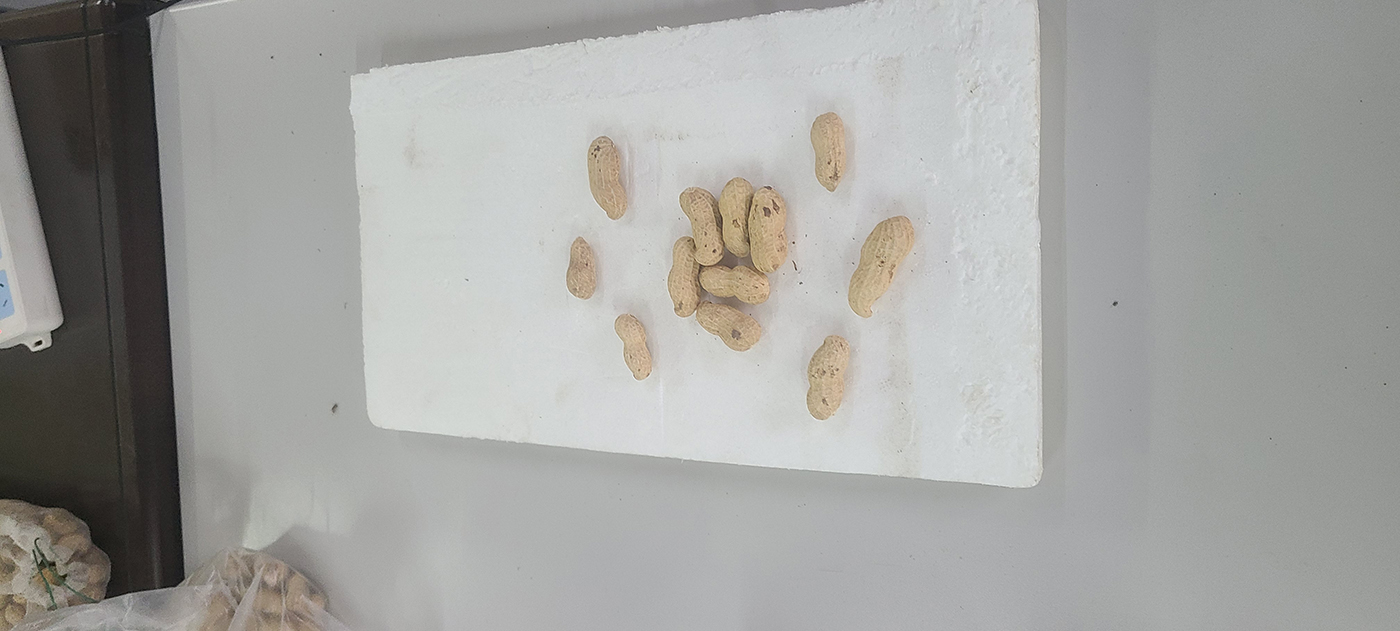h: (848, 216, 914, 318), (679, 186, 725, 265), (807, 335, 848, 421), (749, 186, 789, 273), (588, 136, 627, 220), (696, 301, 760, 350), (811, 112, 846, 192), (717, 177, 751, 257), (699, 265, 770, 303), (614, 313, 654, 380), (667, 237, 700, 317), (565, 236, 595, 299)
